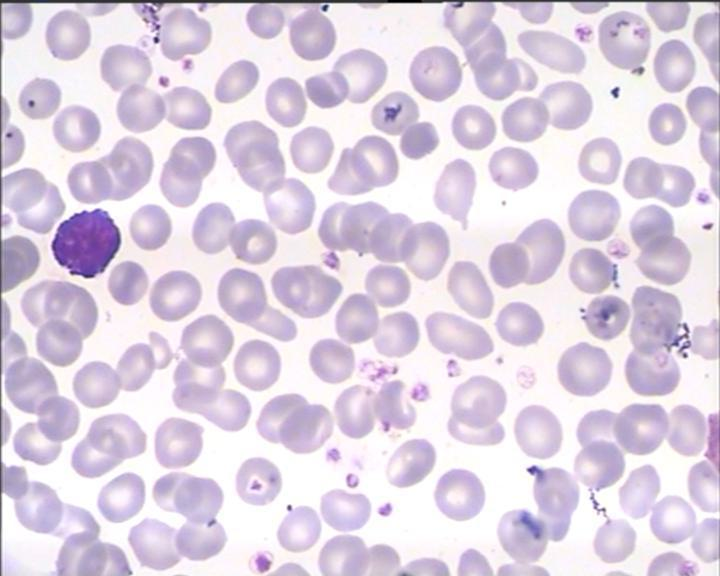baso: (46, 205, 122, 281)
